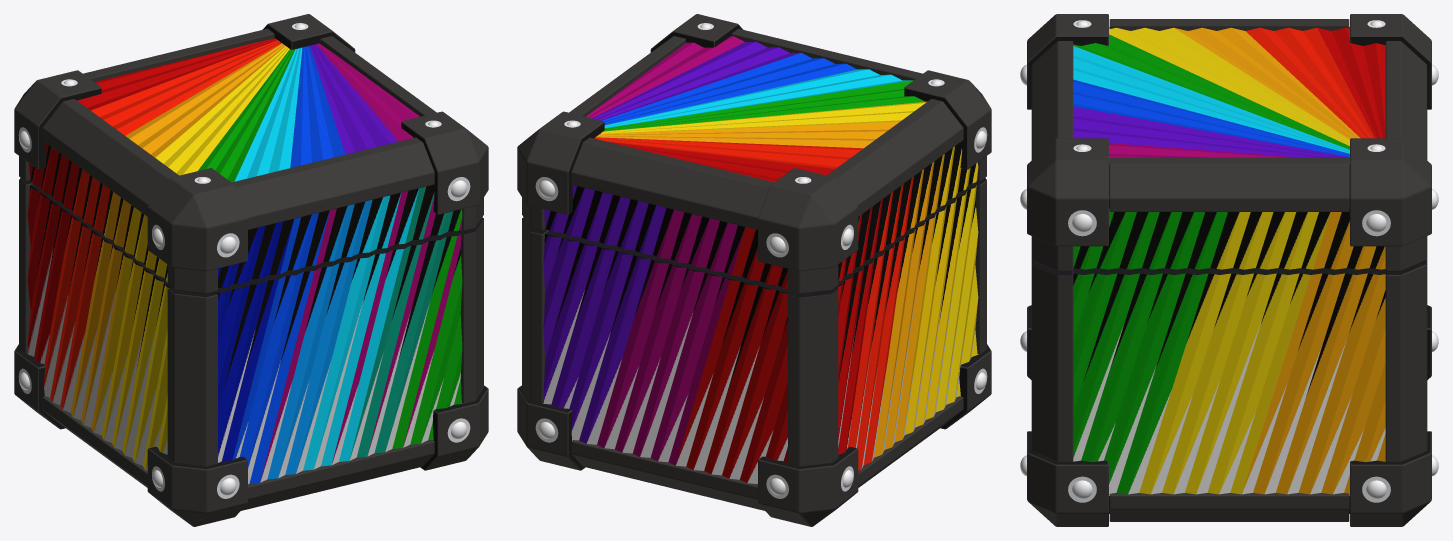
Rendered from case_prism.glb.
3 renders of one model, left to right at view 1: azimuth 30°, elevation 25°; view 2: azimuth 150°, elevation 25°; view 3: azimuth 270°, elevation 25°, orthographic. The views are drawn at different scales.
Parts seen in each view (by area): view 1: PrismBody_F, PrismTop, PrismBody_W, PrismLid_F, TopRail, BodyPost, CornerCap.001, TopRail.001, PrismLid_W, CornerCap, CornerCap.005, BottomRail (+11 smaller); view 2: PrismBody_B, PrismTop, PrismBody_W, PrismLid_B, TopRail.002, BodyPost.001, CornerCap.003, TopRail.001, PrismLid_W, CornerCap.002, CornerCap.007, BottomRail.002 (+11 smaller); view 3: PrismBody_R, PrismTop, PrismLid_R, TopRail.003, BodyPost.002, BodyPost.003, CornerCap.005, CornerCap.007, BottomRail.003, CornerCap.004, CornerCap.006, TopRail (+7 smaller).
Boxes of the visible parts, x1,y1,x2,y2 form: PrismBody_F: (216,234,462,484); PrismTop: (77,38,419,182); PrismBody_W: (27,185,169,470); PrismLid_F: (218,185,462,287); TopRail: (231,137,434,229); BodyPost: (167,288,217,466); CornerCap.001: (147,168,247,271); TopRail.001: (42,99,178,216); PrismLid_W: (29,142,167,282); CornerCap: (147,446,247,526); CornerCap.005: (401,111,488,214); BottomRail: (241,440,434,510); PrismBody_B: (543,233,788,483); PrismTop: (586,36,926,182); PrismBody_W: (835,185,978,470); PrismLid_B: (544,185,787,288); TopRail.002: (571,137,774,229); BodyPost.001: (788,288,838,466); CornerCap.003: (758,168,858,271); TopRail.001: (827,99,963,216); PrismLid_W: (838,142,978,281); CornerCap.002: (758,446,858,526); CornerCap.007: (517,111,604,214); BottomRail.002: (571,440,764,510); PrismBody_R: (1073,273,1385,495); PrismTop: (1073,27,1385,164); PrismLid_R: (1073,208,1385,269); TopRail.003: (1109,157,1349,211); BodyPost.002: (1031,259,1073,462); BodyPost.003: (1385,259,1427,462); CornerCap.005: (1027,138,1108,246); CornerCap.007: (1350,138,1431,246); BottomRail.003: (1109,493,1349,521); CornerCap.004: (1027,431,1108,526); CornerCap.006: (1350,431,1431,526); TopRail: (1031,41,1073,159).
Size of the model in its own units: 1.06 by 1.04 by 1.06.
Materials: 15 (9 with a texture image).
